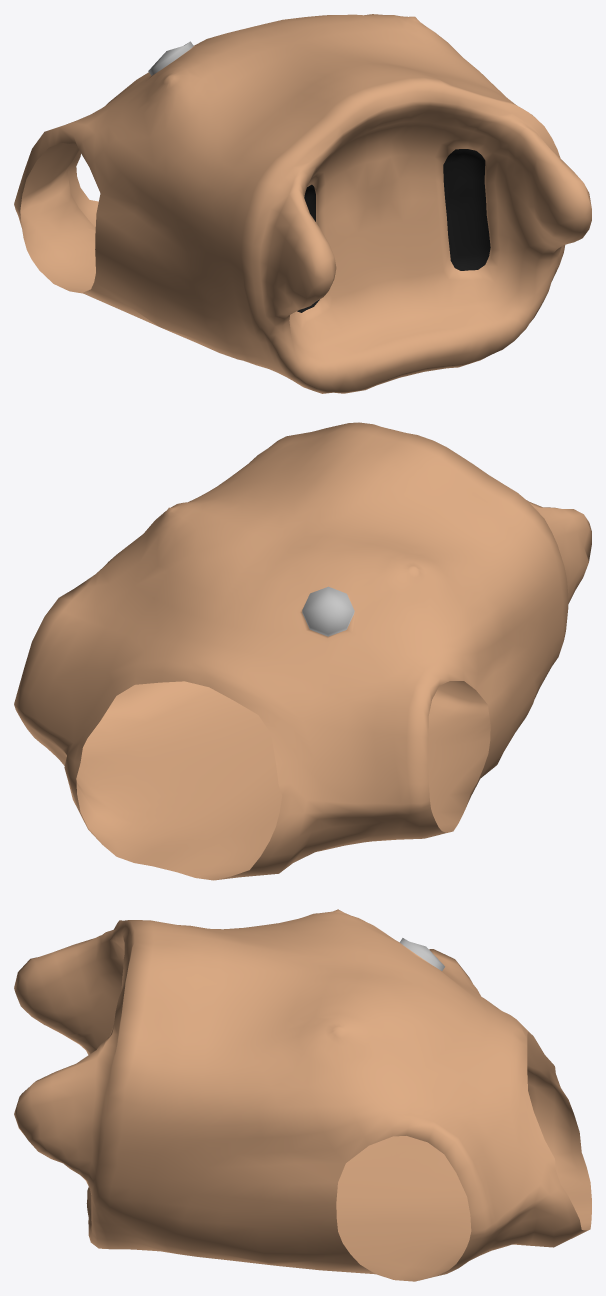
Rendered from Manichino_Retopo.fbx.
3 renders of one model, top to bottom at view 1: azimuth 30°, elevation 25°; view 2: azimuth 150°, elevation 25°; view 3: azimuth 270°, elevation 25°, orthographic.
Parts seen in each view (by area): view 1: BSurfaceMesh.001; view 2: BSurfaceMesh.001; view 3: BSurfaceMesh.001.
Part boxes in pixels (x1,y1,x2,y2): BSurfaceMesh.001: [14, 14, 591, 393]; BSurfaceMesh.001: [14, 422, 591, 880]; BSurfaceMesh.001: [14, 909, 591, 1281].
Size of the model in its own units: 42.72 by 27.56 by 52.19.
